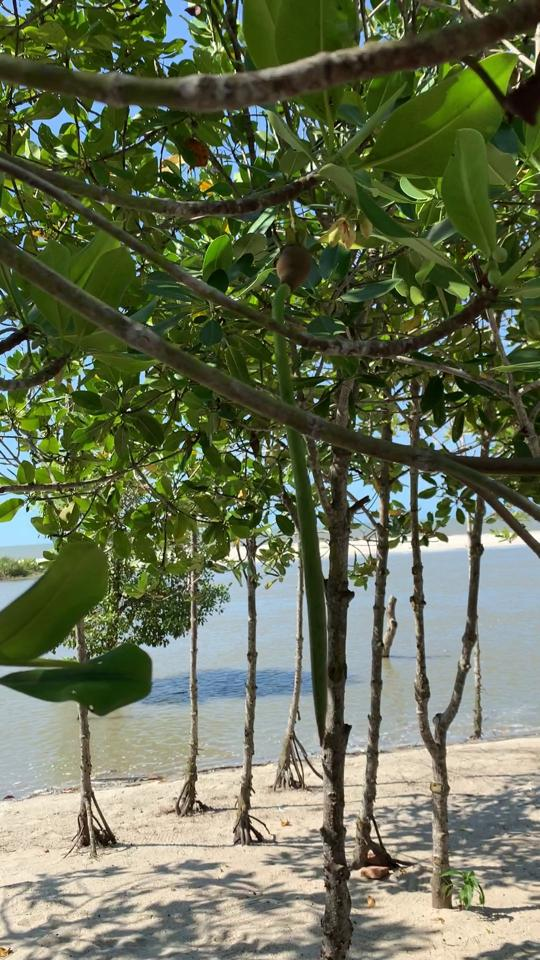setengah matang: (264, 216, 346, 748)
